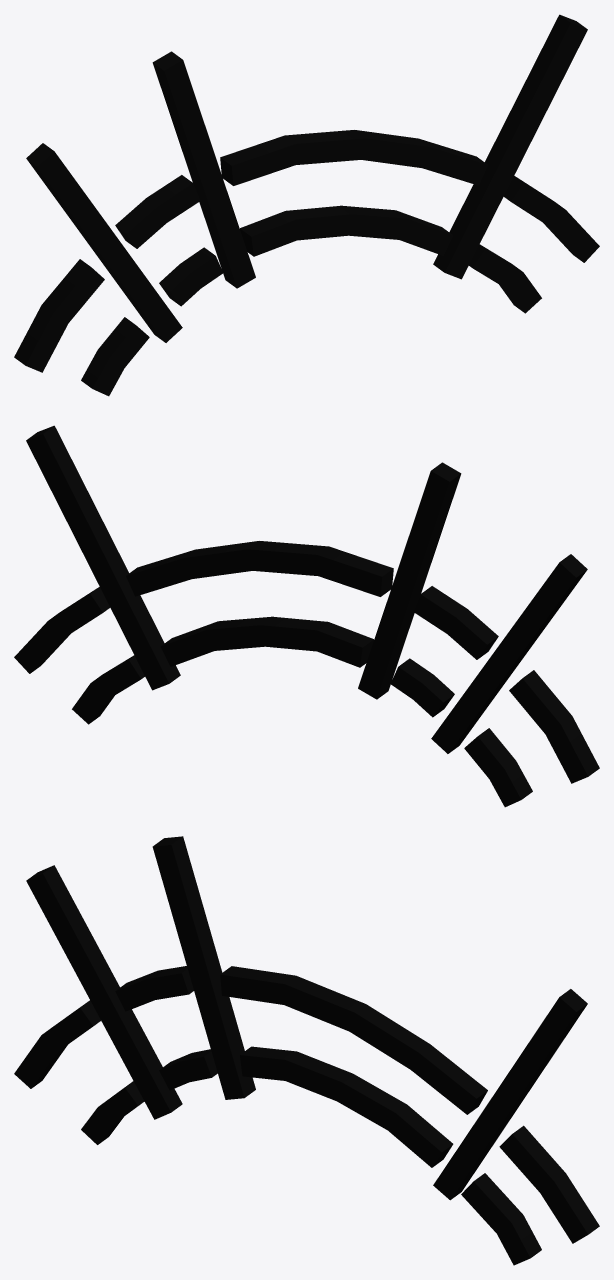
The model's file is Peaceful_001.FBX.
3 views of the same model, one above another, from view 1: azimuth 30°, elevation 25°; view 2: azimuth 150°, elevation 25°; view 3: azimuth 330°, elevation 25° (orthographic).
Visible parts, largest first — view 1: Peaceful_001; view 2: Peaceful_001; view 3: Peaceful_001.
Part boxes in pixels (x1,y1,x2,y2): Peaceful_001: [14, 14, 599, 396]; Peaceful_001: [14, 425, 599, 807]; Peaceful_001: [14, 836, 599, 1265].
Bounding box in the file's own units: 115 × 4 × 64.4.
